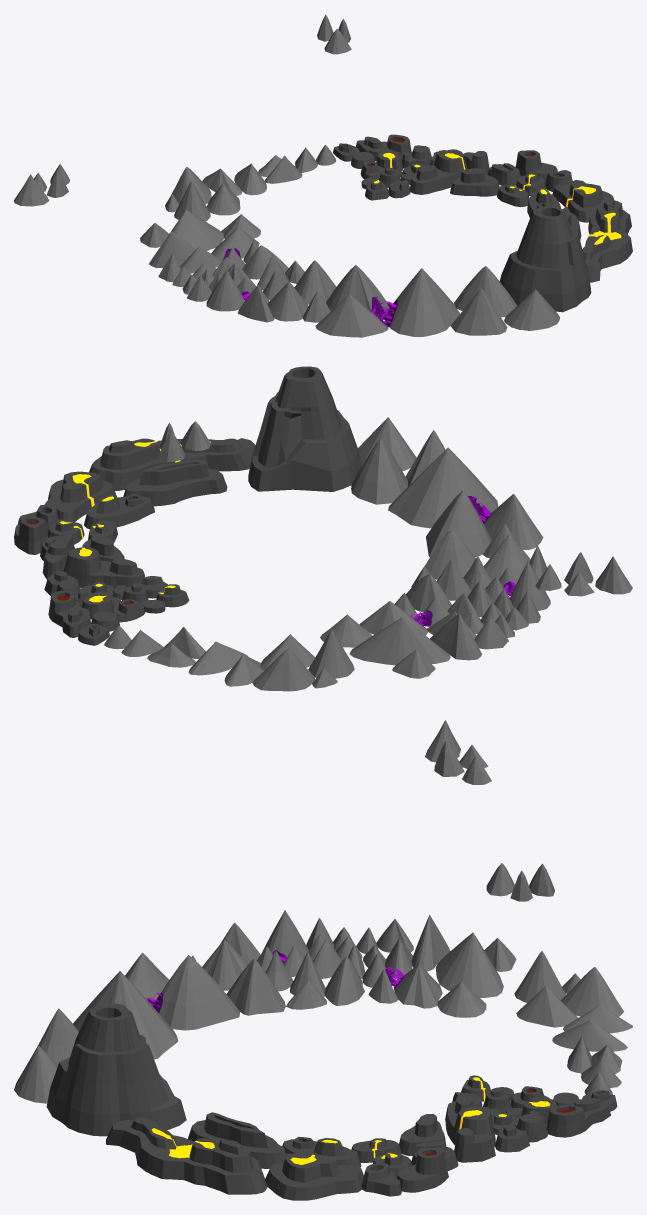
Rendered from allmountains.fbx.
The picture shows the model from 3 angles, top to bottom: view 1: azimuth 30°, elevation 25°; view 2: azimuth 150°, elevation 25°; view 3: azimuth 270°, elevation 25°; orthographic projection. The views are drawn at different scales.
Visible parts, largest first — view 1: PointyMountains, FlatTopMountains, Vulcano, Mountains, Mountains.001; view 2: PointyMountains, FlatTopMountains, Vulcano, Mountains, Mountains.001; view 3: PointyMountains, FlatTopMountains, Vulcano, Mountains, Mountains.001.
Part boxes in pixels (x1,y1,x2,y2): PointyMountains: [140, 145, 559, 337]; FlatTopMountains: [333, 134, 632, 282]; Vulcano: [499, 204, 591, 312]; Mountains: [14, 164, 69, 206]; Mountains.001: [317, 14, 351, 54]; PointyMountains: [104, 417, 550, 691]; FlatTopMountains: [14, 438, 255, 645]; Vulcano: [248, 366, 361, 491]; Mountains: [535, 552, 632, 596]; Mountains.001: [157, 421, 210, 462]; PointyMountains: [14, 910, 632, 1103]; FlatTopMountains: [106, 1075, 617, 1200]; Vulcano: [46, 1003, 186, 1136]; Mountains: [425, 720, 491, 784]; Mountains.001: [486, 863, 554, 901].
Bounding box in the file's own units: 523693 × 155680 × 402534.
